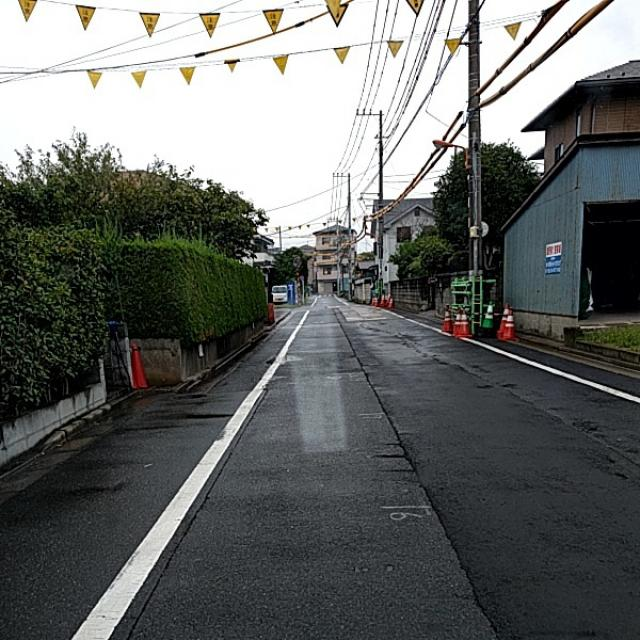pothole: (382, 438, 459, 550)
